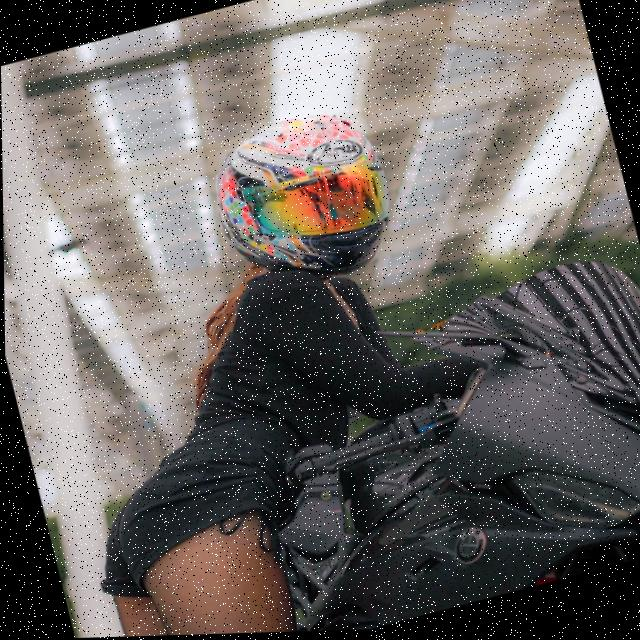helmet: (190, 93, 412, 310)
